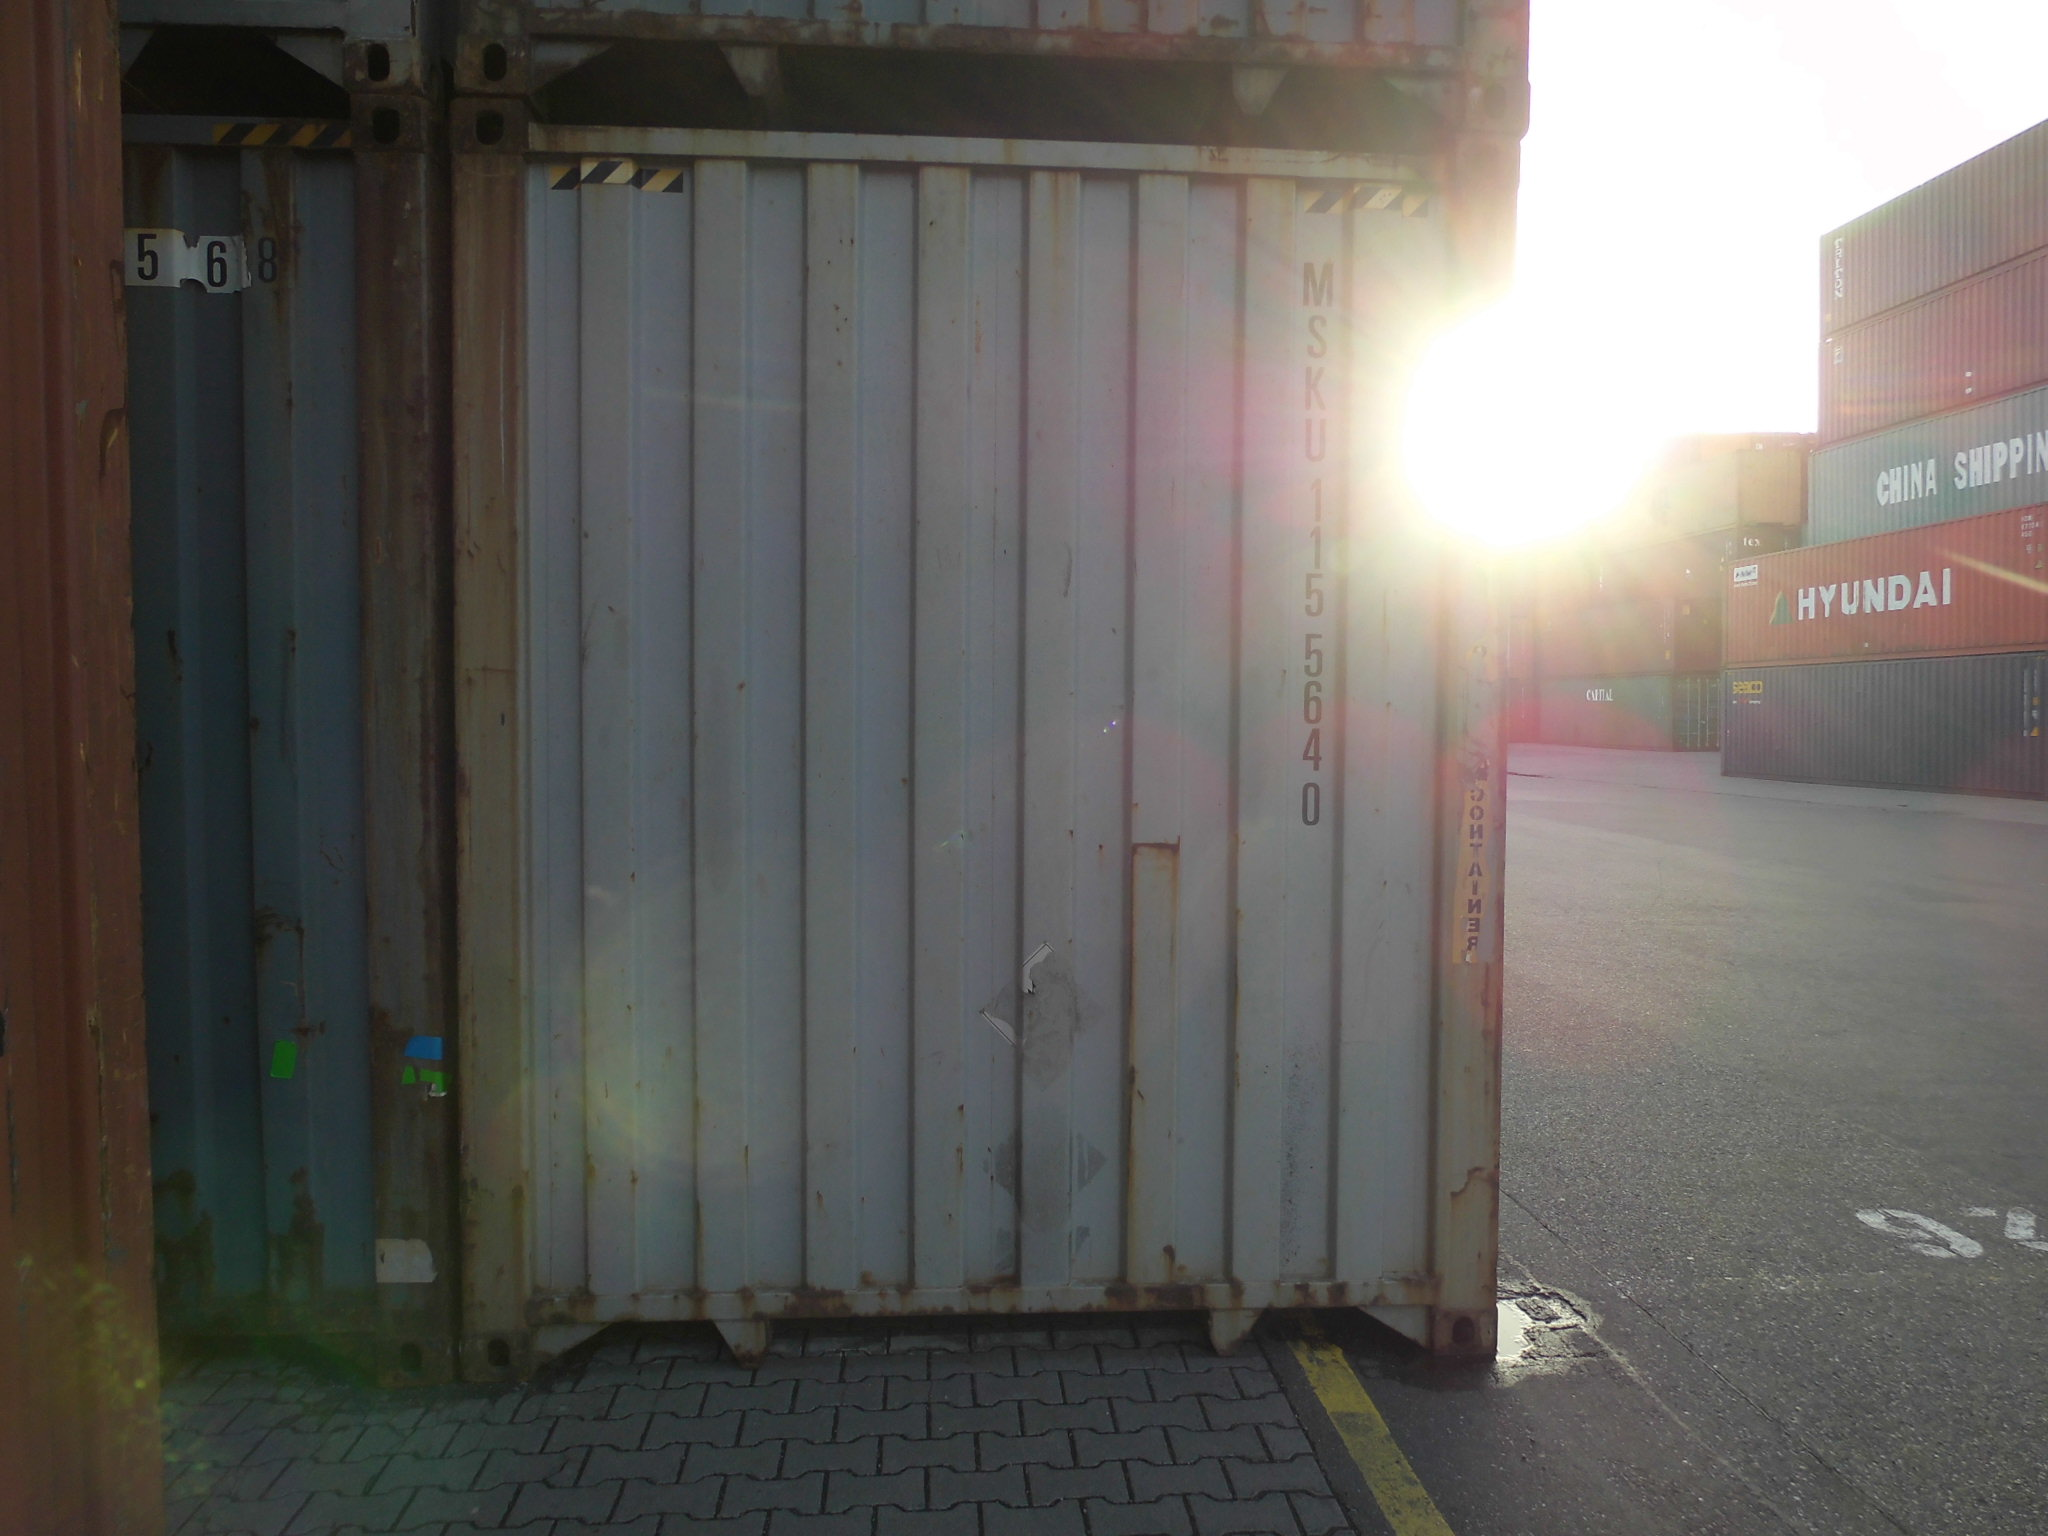container_no_door: (456, 90, 1505, 1392)
